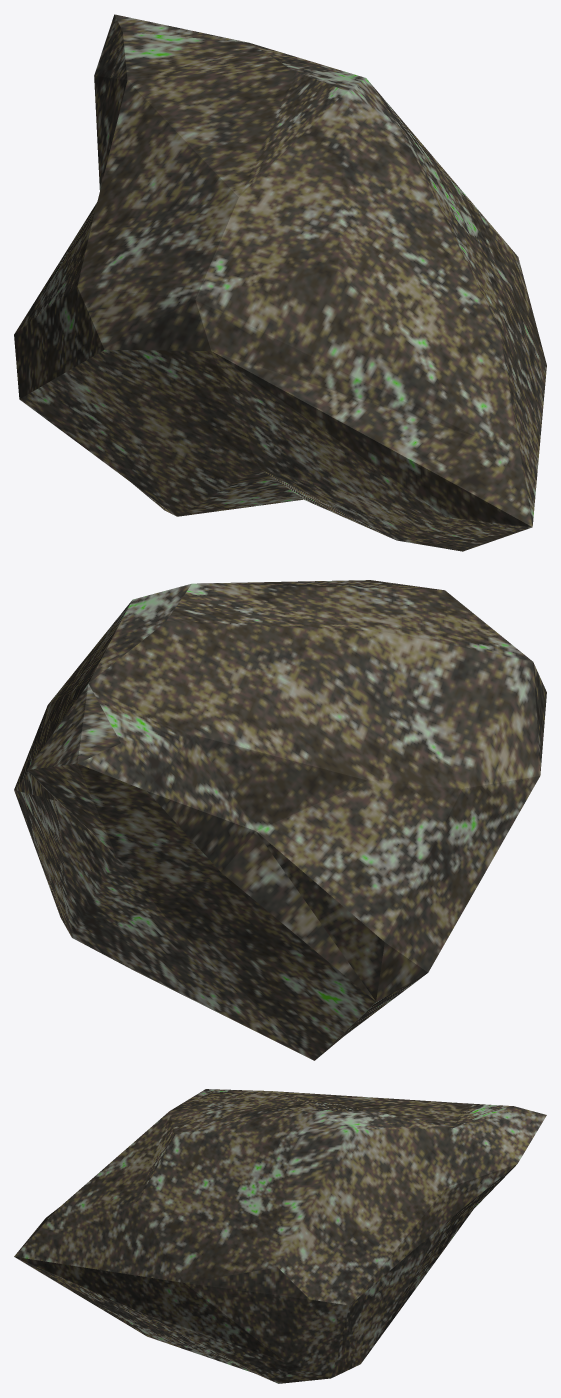
File: rock.glb
The picture shows the model from 3 angles, top to bottom: view 1: azimuth 30°, elevation 25°; view 2: azimuth 150°, elevation 25°; view 3: azimuth 270°, elevation 25°; orthographic projection. The views are drawn at different scales.
Parts seen in each view (by area): view 1: rock.001; view 2: rock.001; view 3: rock.001.
Boxes of the visible parts, bbox=[...] form: rock.001: bbox=[14, 14, 546, 551]; rock.001: bbox=[14, 580, 546, 1060]; rock.001: bbox=[14, 1089, 546, 1383].
Size of the model in its own units: 0.6014 by 0.5182 by 0.9512.
Materials: 1 (1 with a texture image).
